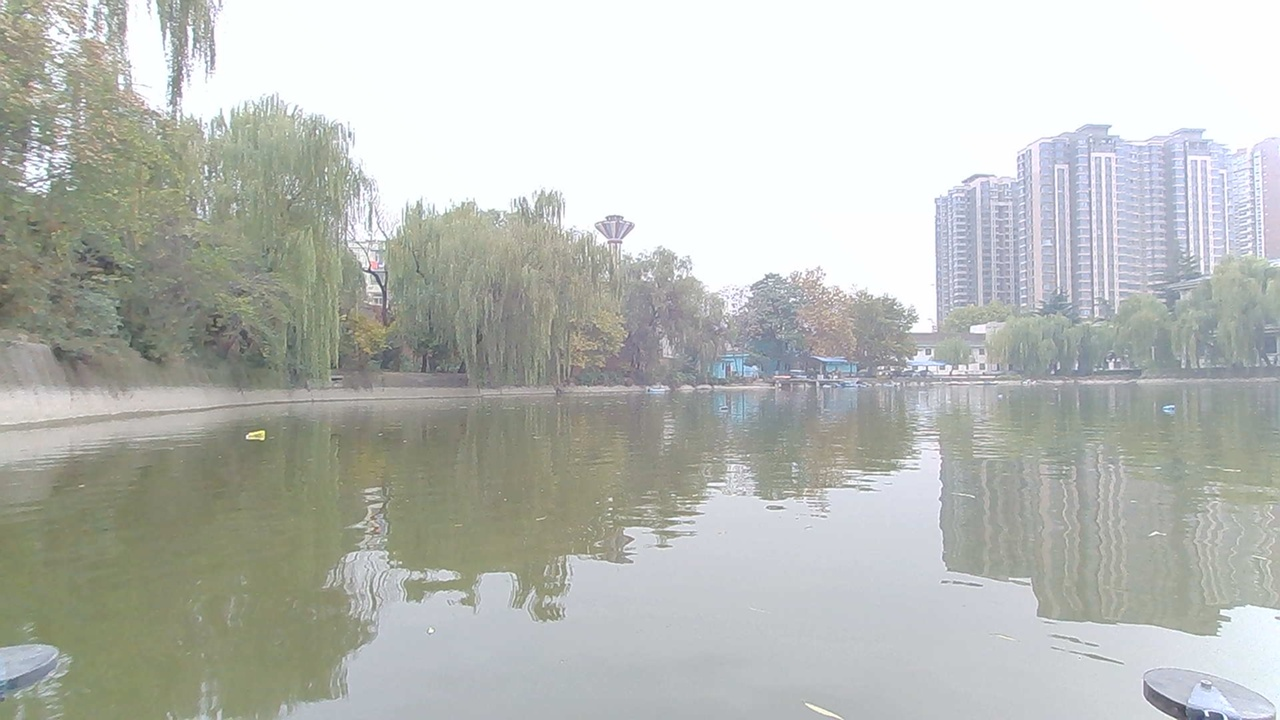bottle: (243, 426, 277, 449), (1153, 397, 1184, 420), (711, 402, 740, 417)
